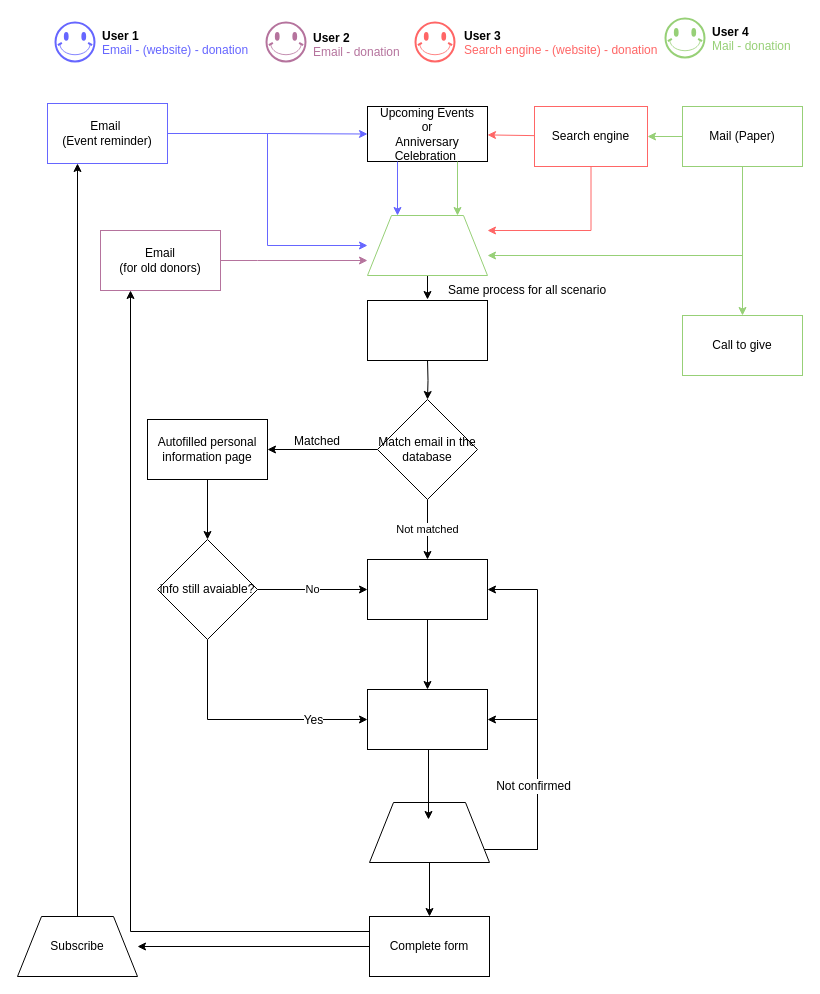
Some shapes in this 820 by 994 pixel diagram are drawn without their labels. The centre of each missing label's shape, as x and y in pixels:
"Billing information" belongs at point (427, 719).
"Blank personal information page" belongs at point (427, 589).
"Confirm information" belongs at point (429, 832).
"Fill out give information Email" belongs at point (427, 330).
"Give" belongs at point (427, 245).
